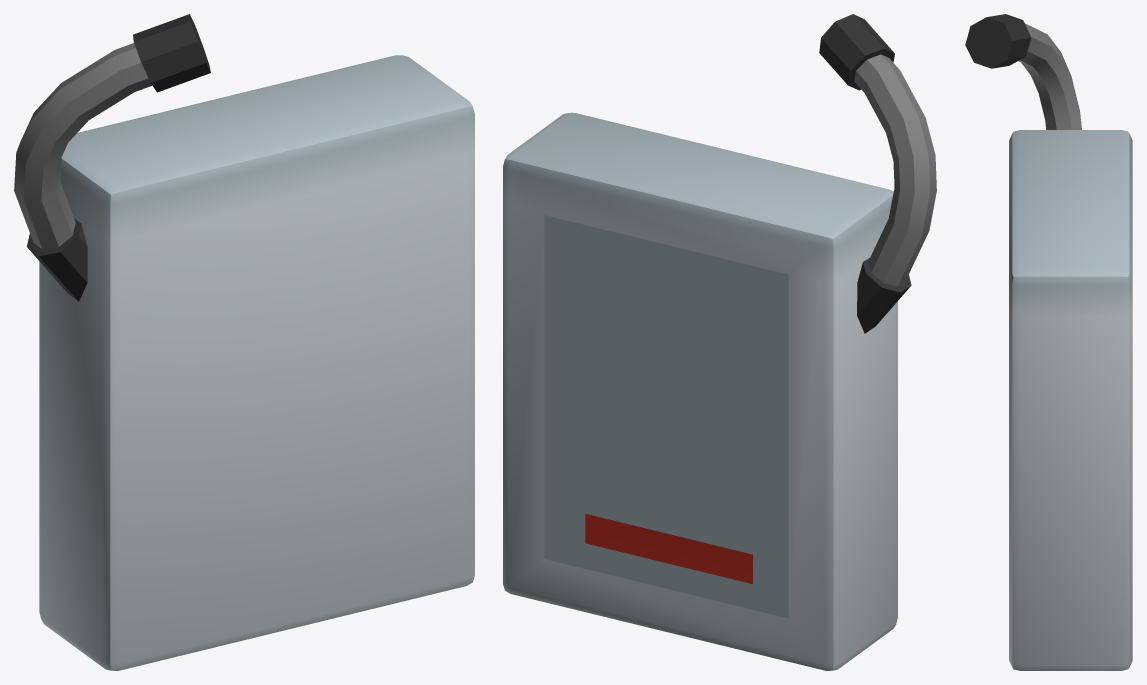
File: M_Bag_v1.fbx
The picture shows the model from 3 angles, left to right: view 1: azimuth 30°, elevation 25°; view 2: azimuth 150°, elevation 25°; view 3: azimuth 270°, elevation 25°; orthographic projection. The views are drawn at different scales.
Visible parts, largest first — view 1: M_Bag; view 2: M_Bag; view 3: M_Bag.
Boxes of the visible parts, x1,y1,x2,y2 form: M_Bag: (14,14,474,670); M_Bag: (503,14,936,670); M_Bag: (965,14,1132,670).
Size of the model in its own units: 69.07 by 99.27 by 28.09.
Materials: 1 (1 with a texture image).
